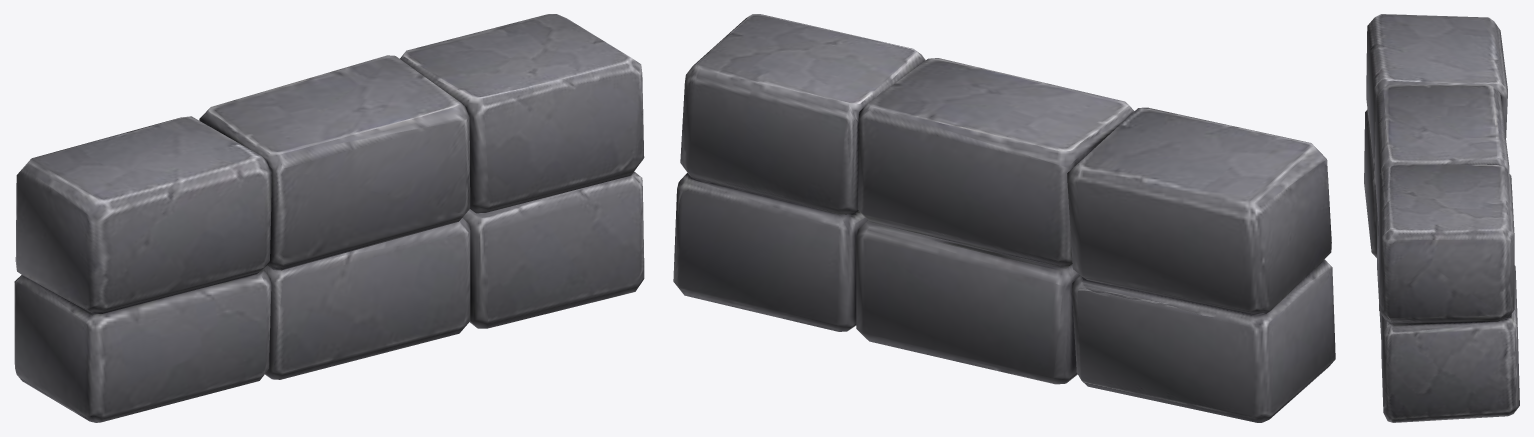
Rendered from stone_blocks.glb.
3 views of the same model, side by side, from view 1: azimuth 30°, elevation 25°; view 2: azimuth 150°, elevation 25°; view 3: azimuth 270°, elevation 25° (orthographic). The views are drawn at different scales.
Parts seen in each view (by area): view 1: tripo_node_82b8fd00-e0b6-49d2-a4a5-4abaefa87503; view 2: tripo_node_82b8fd00-e0b6-49d2-a4a5-4abaefa87503; view 3: tripo_node_82b8fd00-e0b6-49d2-a4a5-4abaefa87503.
Part boxes in pixels (x1,y1,x2,y2): tripo_node_82b8fd00-e0b6-49d2-a4a5-4abaefa87503: [14, 14, 644, 422]; tripo_node_82b8fd00-e0b6-49d2-a4a5-4abaefa87503: [673, 14, 1335, 422]; tripo_node_82b8fd00-e0b6-49d2-a4a5-4abaefa87503: [1364, 14, 1519, 422].
Bounding box in the file's own units: 0.998 × 0.3848 × 0.2832.
1 material, 1 textured.
